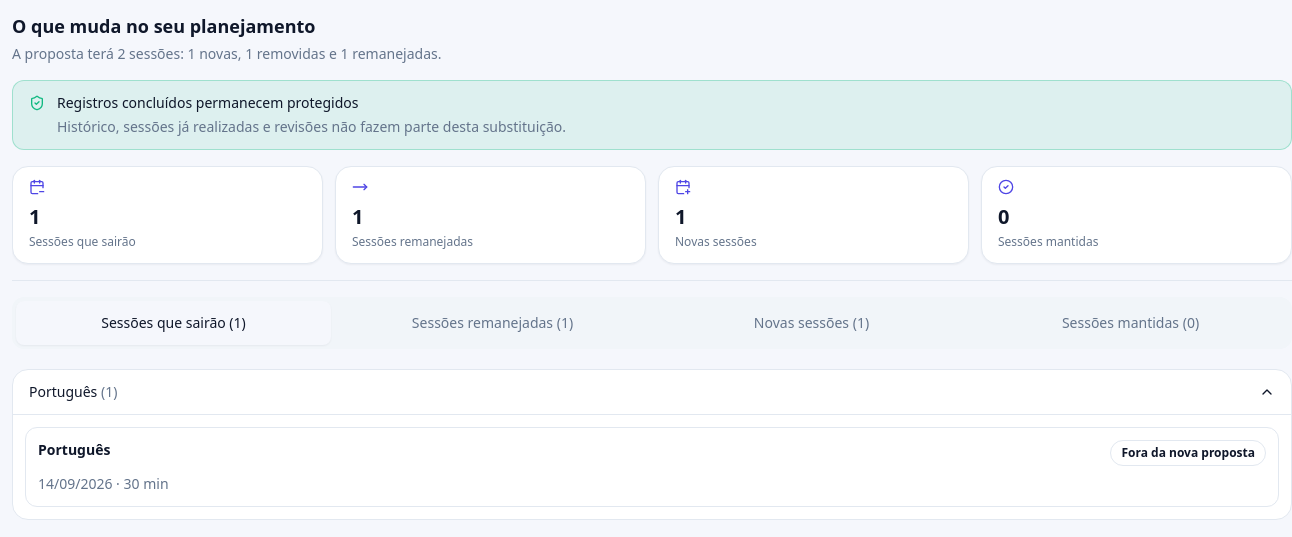
Test: apresenta resumo textual, proteção e quatro grupos acessíveis
Expected: the heading "O que muda no seu planejamento" is shown, [12,14,315,38]
Expected: the message shows "Histórico, sessões já realizadas e revisões", [57,117,566,136]
Click the tab "Sessões remanejadas (1)" at (492, 323), box [335,301,650,345]
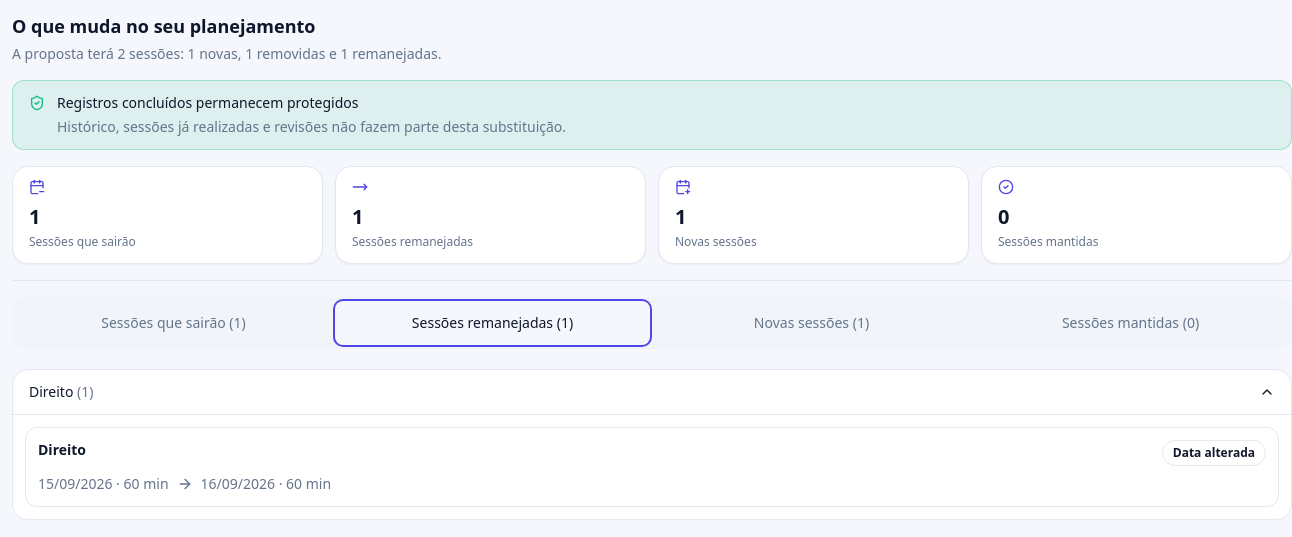
Result: the text "Data alterada" is shown at [1162,440,1266,466]
